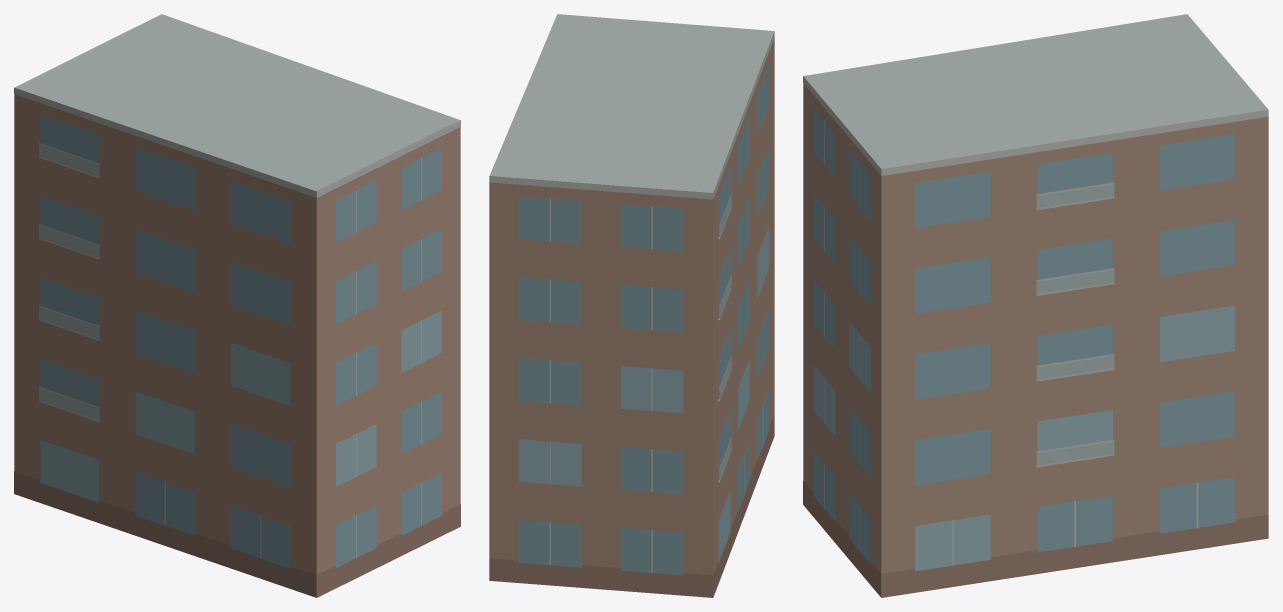
The model's file is survey-upis-32597028.glb.
The picture shows the model from 3 angles, left to right: view 1: azimuth 30°, elevation 25°; view 2: azimuth 150°, elevation 25°; view 3: azimuth 270°, elevation 25°; orthographic projection. The views are drawn at different scales.
Visible parts, largest first — view 1: survey-upis-32597028.tmp; view 2: survey-upis-32597028.tmp; view 3: survey-upis-32597028.tmp.
Boxes of the visible parts, bbox=[...] form: survey-upis-32597028.tmp: bbox=[14, 14, 460, 597]; survey-upis-32597028.tmp: bbox=[489, 14, 774, 597]; survey-upis-32597028.tmp: bbox=[803, 14, 1268, 597].
Size of the model in its own units: 11.85 by 15.25 by 15.02.
